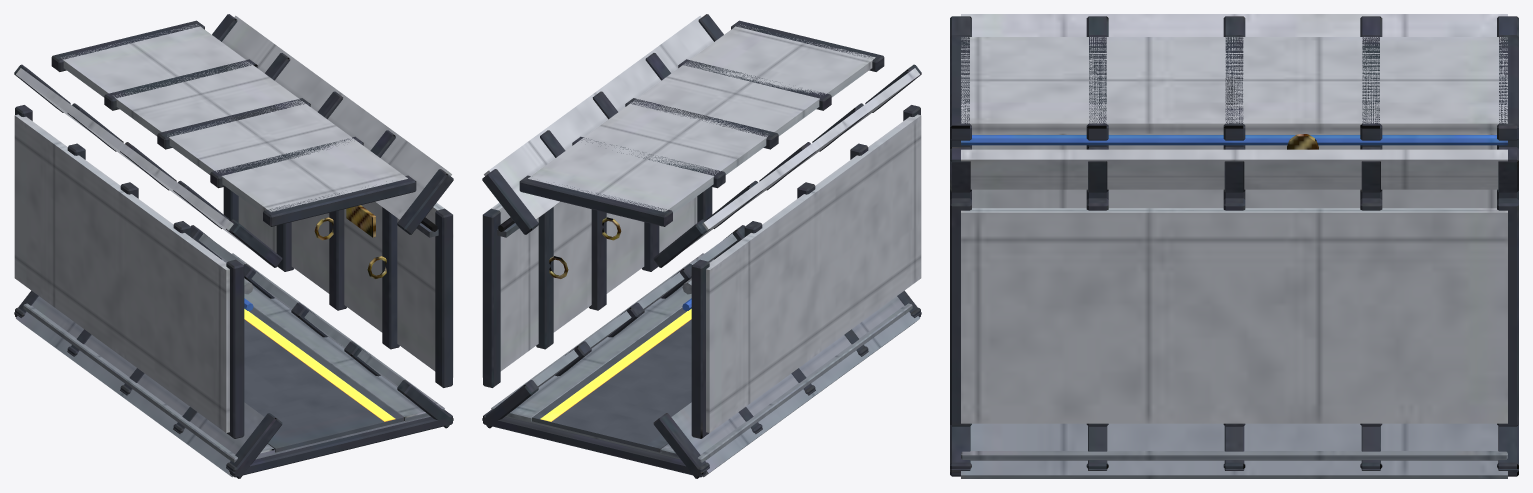
The model's file is corridor.glb.
3 views of the same model, side by side, from view 1: azimuth 30°, elevation 25°; view 2: azimuth 150°, elevation 25°; view 3: azimuth 270°, elevation 25° (orthographic). The views are drawn at different scales.
Visible parts, largest first — view 1: WallL, Ceiling, WallR, FloorGrate, UpperBevelR, LowerBevelL, FloorPlateR, RibWall0R, UpperBevelL, RibFloor0, RibWall0L, RibTop0 (+16 smaller); view 2: WallL, Ceiling, WallR, FloorGrate, UpperBevelR, LowerBevelL, FloorPlateR, RibWall4R, UpperBevelL, RibFloor4, RibWall4L, RibTop4 (+15 smaller); view 3: WallR, Ceiling, LowerBevelR, UpperBevelR, WallL, UpperBevelL, FloorPlateR, PipeRunLower, RibWall0R, RibWall4R, RibTop0, RibTop4 (+13 smaller).
Boxes of the visible parts, x1,y1,x2,y2 form: WallL: [14, 114, 229, 432]; Ceiling: [61, 24, 407, 213]; WallR: [238, 196, 453, 377]; FloorGrate: [244, 307, 403, 452]; UpperBevelR: [222, 15, 451, 219]; LowerBevelL: [16, 296, 264, 477]; FloorPlateR: [222, 253, 444, 421]; RibWall0R: [435, 208, 452, 387]; UpperBevelL: [16, 68, 252, 250]; RibFloor0: [226, 410, 452, 477]; RibWall0L: [226, 259, 244, 438]; RibTop0: [263, 175, 416, 226]; WallL: [706, 114, 921, 432]; Ceiling: [528, 24, 875, 213]; WallR: [482, 196, 697, 377]; FloorGrate: [532, 307, 691, 452]; UpperBevelR: [484, 15, 713, 219]; LowerBevelL: [671, 296, 919, 477]; FloorPlateR: [491, 253, 713, 421]; RibWall4R: [483, 208, 500, 387]; UpperBevelL: [683, 68, 919, 250]; RibFloor4: [483, 410, 709, 477]; RibWall4L: [691, 259, 709, 438]; RibTop4: [519, 175, 672, 226]; WallR: [961, 208, 1507, 423]; Ceiling: [961, 37, 1507, 133]; LowerBevelR: [961, 423, 1507, 478]; UpperBevelR: [961, 149, 1507, 189]; WallL: [972, 133, 1496, 208]; UpperBevelL: [961, 14, 1507, 36]; FloorPlateR: [961, 451, 1507, 460]; PipeRunLower: [961, 135, 1507, 145]; RibWall0R: [950, 198, 971, 426]; RibWall4R: [1497, 198, 1518, 426]; RibTop0: [950, 35, 971, 140]; RibTop4: [1497, 35, 1518, 140].
Size of the model in its own units: 2.48 by 2.67 by 4.16.
10 materials, 10 textured.
